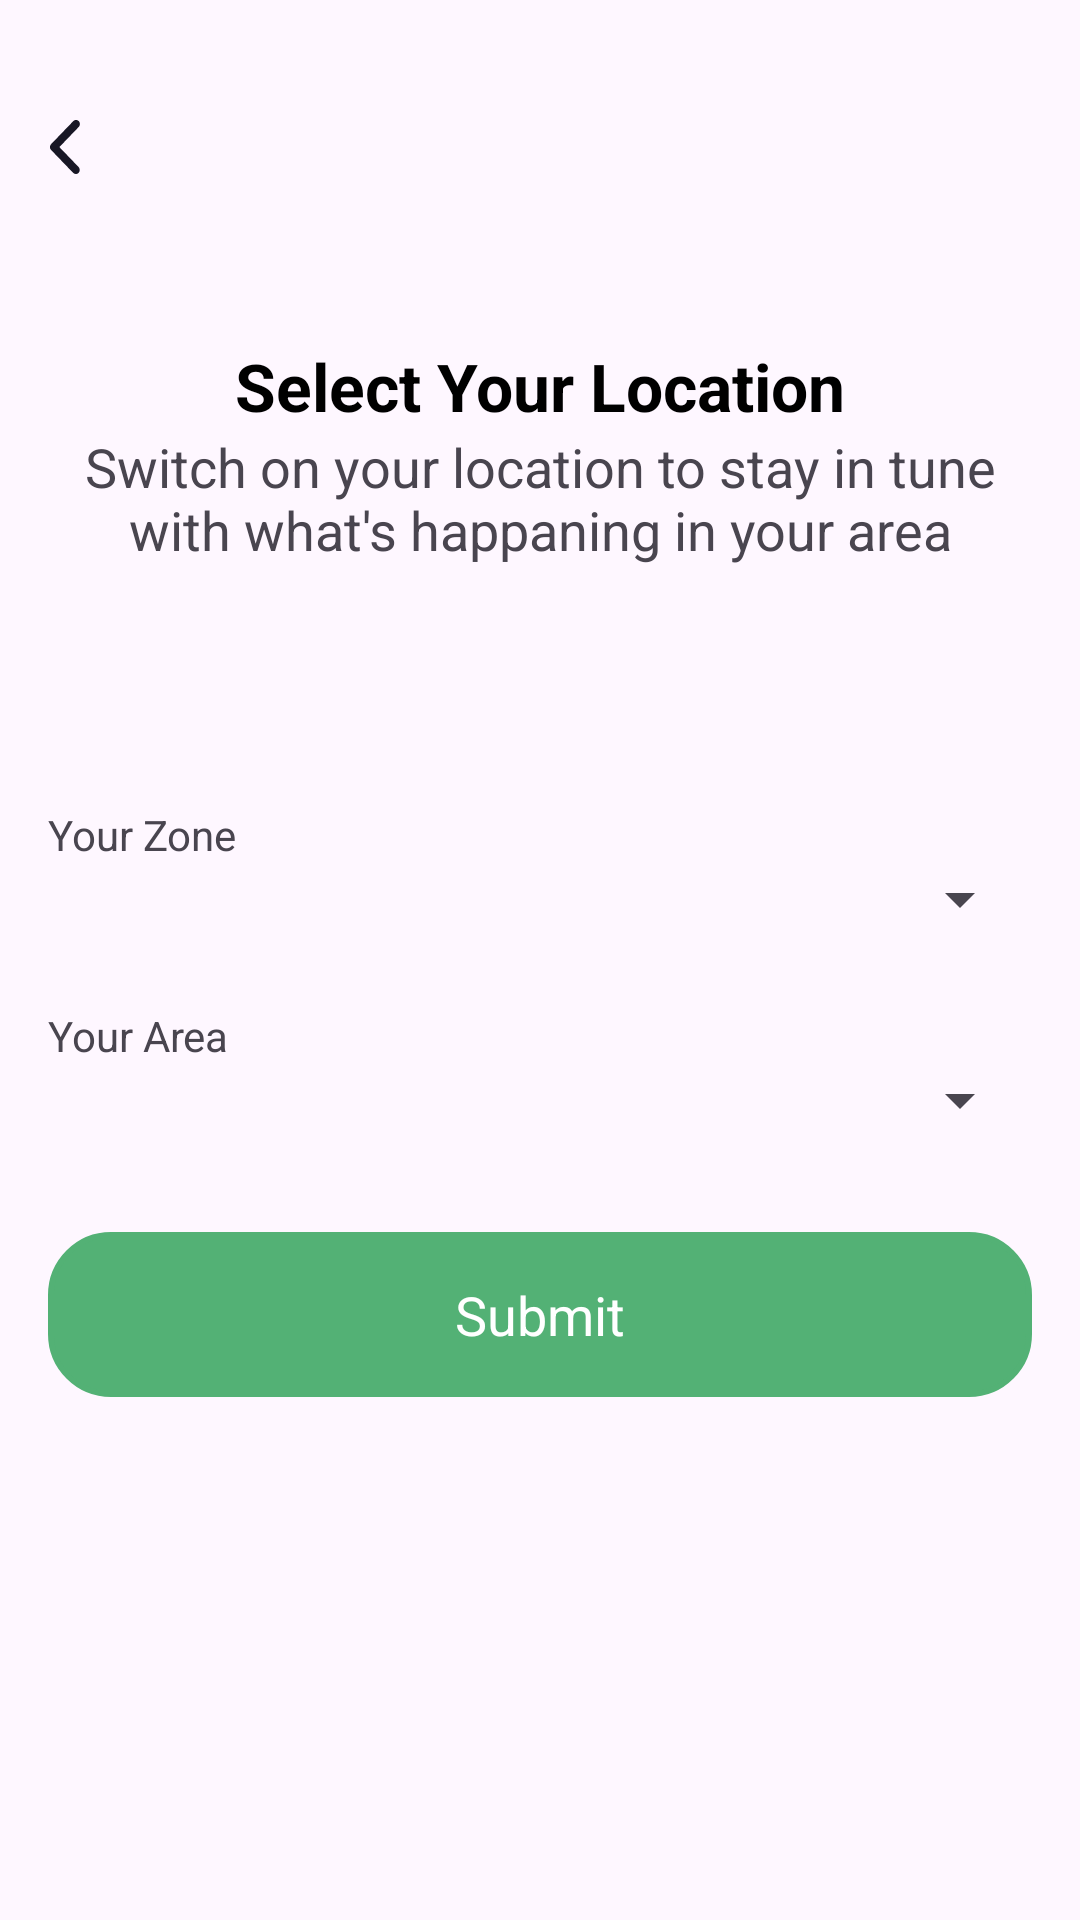

Named icons in this screenshot (1080 x 1920) and their centers, (x,y):
back: (65,147)
